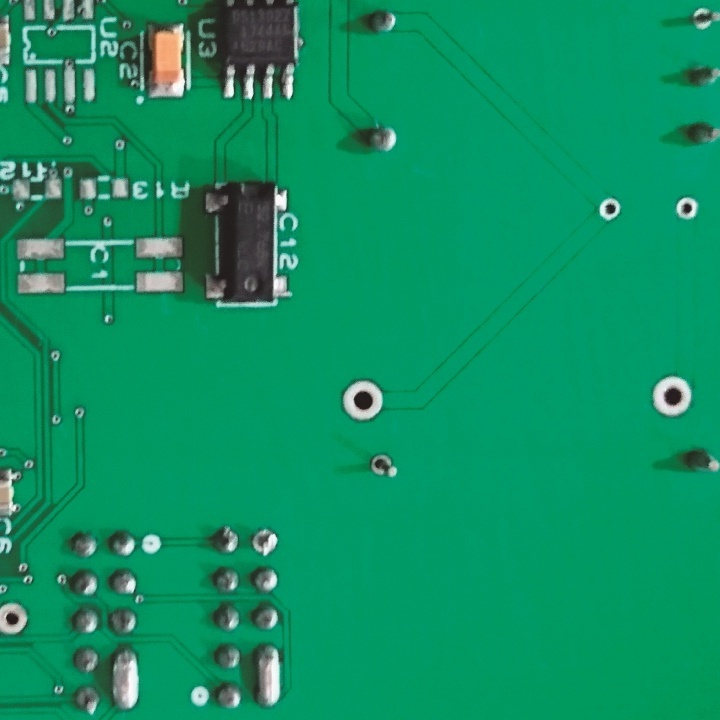F: (647, 371, 694, 420), (339, 378, 387, 423), (1, 599, 34, 638), (250, 526, 284, 563), (367, 452, 401, 483), (691, 5, 720, 38), (671, 197, 704, 223), (595, 197, 624, 222)
P: (107, 641, 144, 718), (251, 642, 287, 715)
